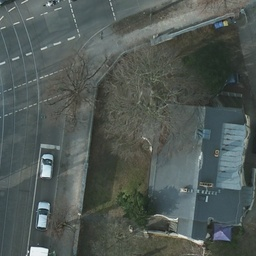car: (35, 199, 50, 231), (39, 151, 55, 179)
